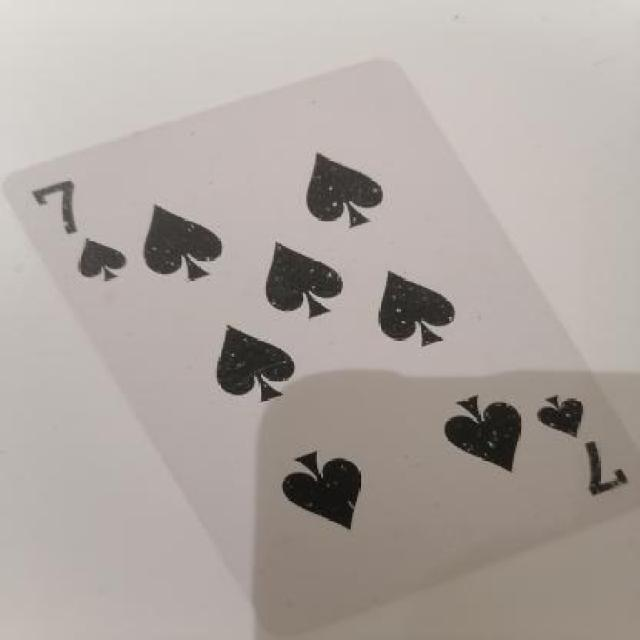7S: (519, 382, 630, 510), (11, 181, 127, 284)
